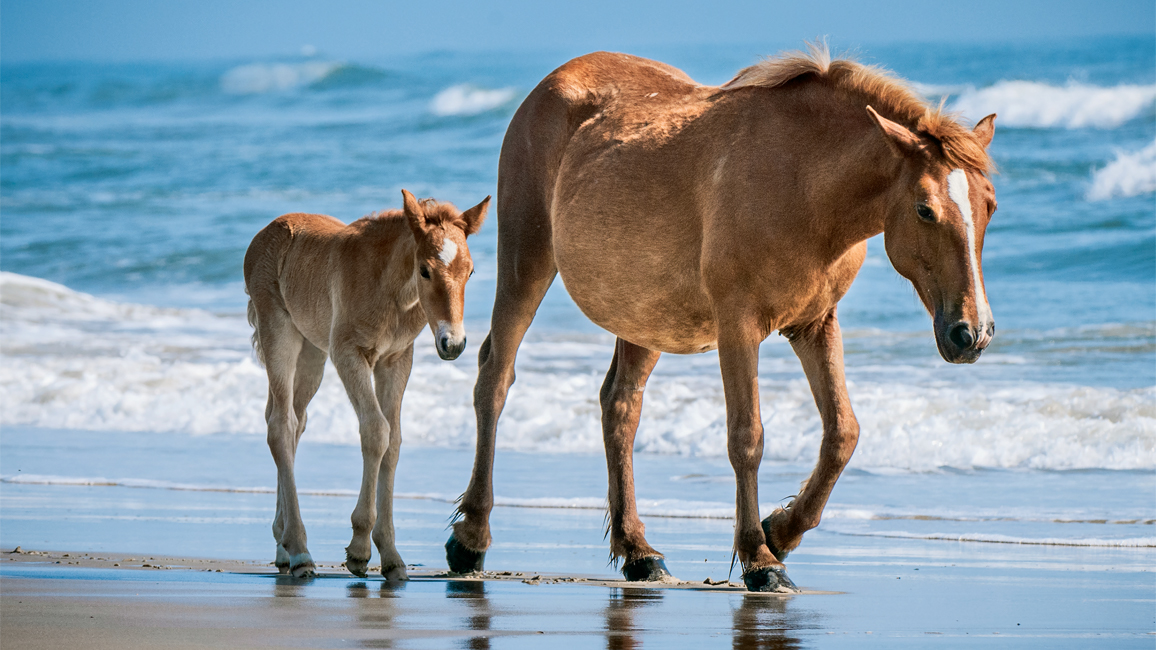Horse: (453, 51, 1015, 627), (226, 187, 501, 612)
